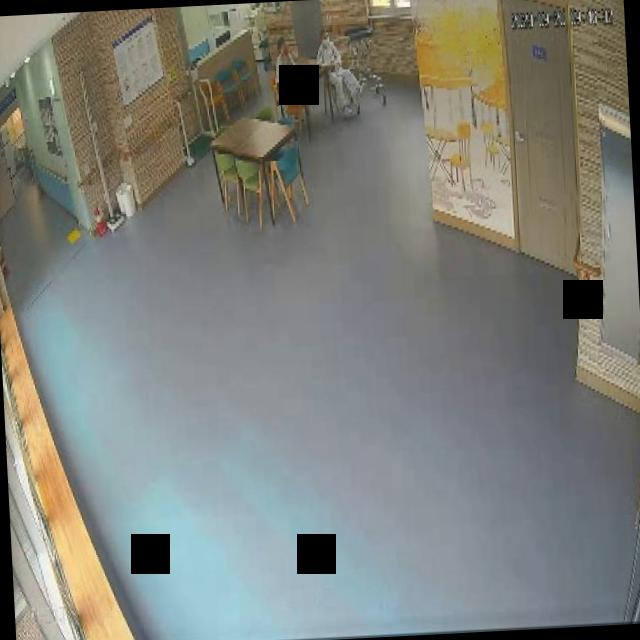patient: (313, 28, 367, 122), (264, 30, 298, 84)
sit: (312, 29, 366, 121)
walker: (339, 21, 390, 114)
